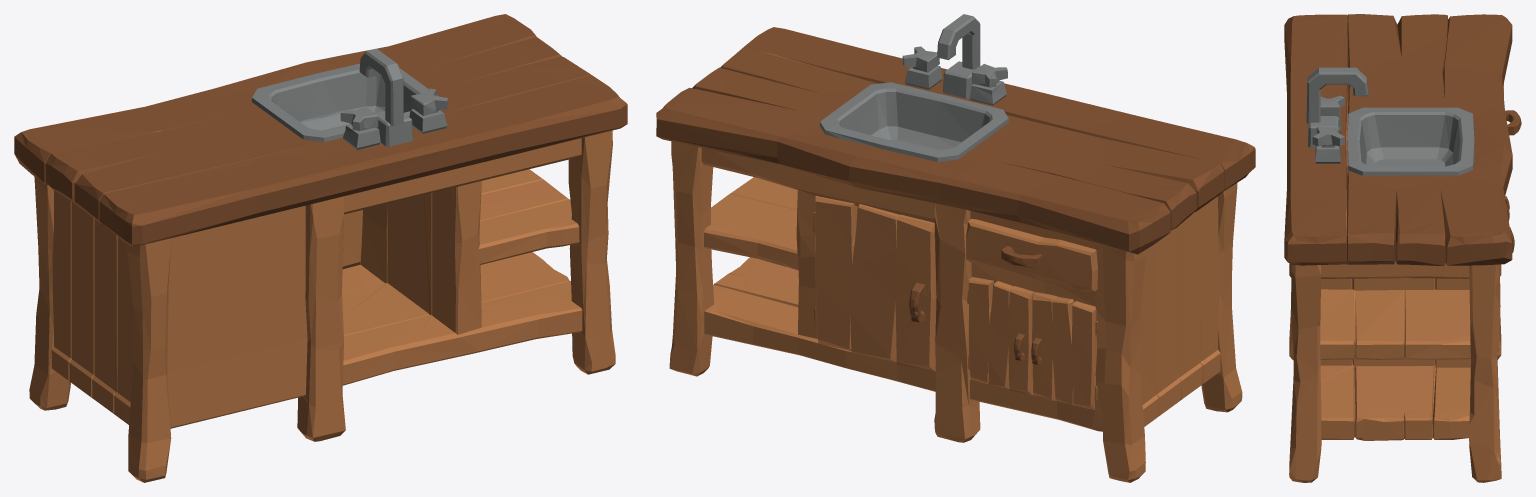
Rendered from KitchenCounter.fbx.
3 renders of one model, left to right at view 1: azimuth 30°, elevation 25°; view 2: azimuth 150°, elevation 25°; view 3: azimuth 270°, elevation 25°, orthographic. The views are drawn at different scales.
Parts seen in each view (by area): view 1: KitchenCounter_Main, KitchenCounter_Part3; view 2: KitchenCounter_Main, KitchenCounter_Part3, KitchenCounter_Part4, KitchenCounter_Part2, KitchenCounter_Part1; view 3: KitchenCounter_Main, KitchenCounter_Part1.
Boxes of the visible parts, x1,y1,x2,y2 form: KitchenCounter_Main: (14, 14, 627, 482); KitchenCounter_Part3: (342, 210, 362, 269); KitchenCounter_Main: (656, 14, 1255, 482); KitchenCounter_Part3: (813, 196, 936, 371); KitchenCounter_Part4: (1031, 292, 1097, 409); KitchenCounter_Part2: (967, 277, 1034, 394); KitchenCounter_Part1: (966, 219, 1097, 292); KitchenCounter_Main: (1284, 14, 1512, 482); KitchenCounter_Part1: (1503, 83, 1521, 135).
Size of the model in its own units: 1.29 by 0.5756 by 0.8572.
